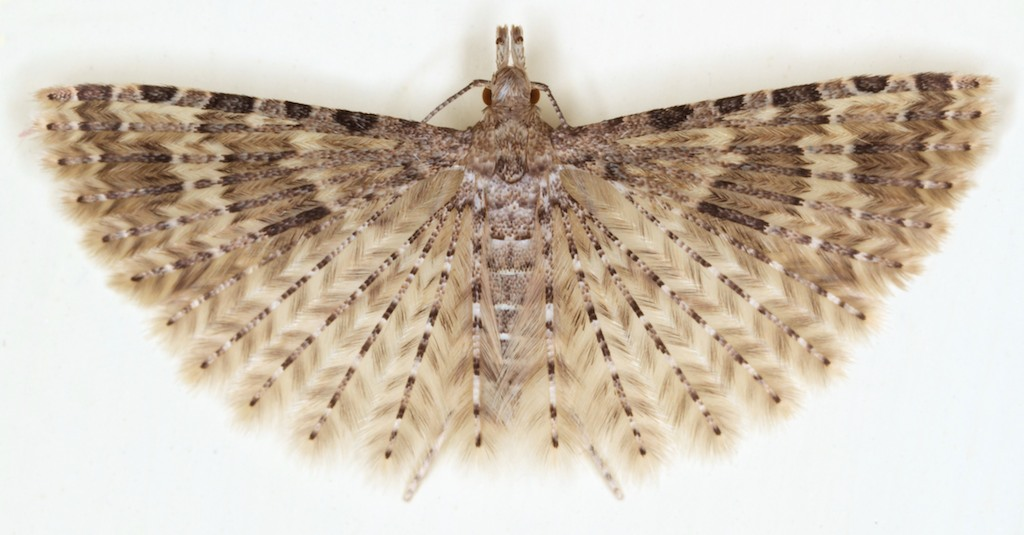Alucitidae: (27, 6, 1004, 504)
moth: (29, 8, 1006, 506)
